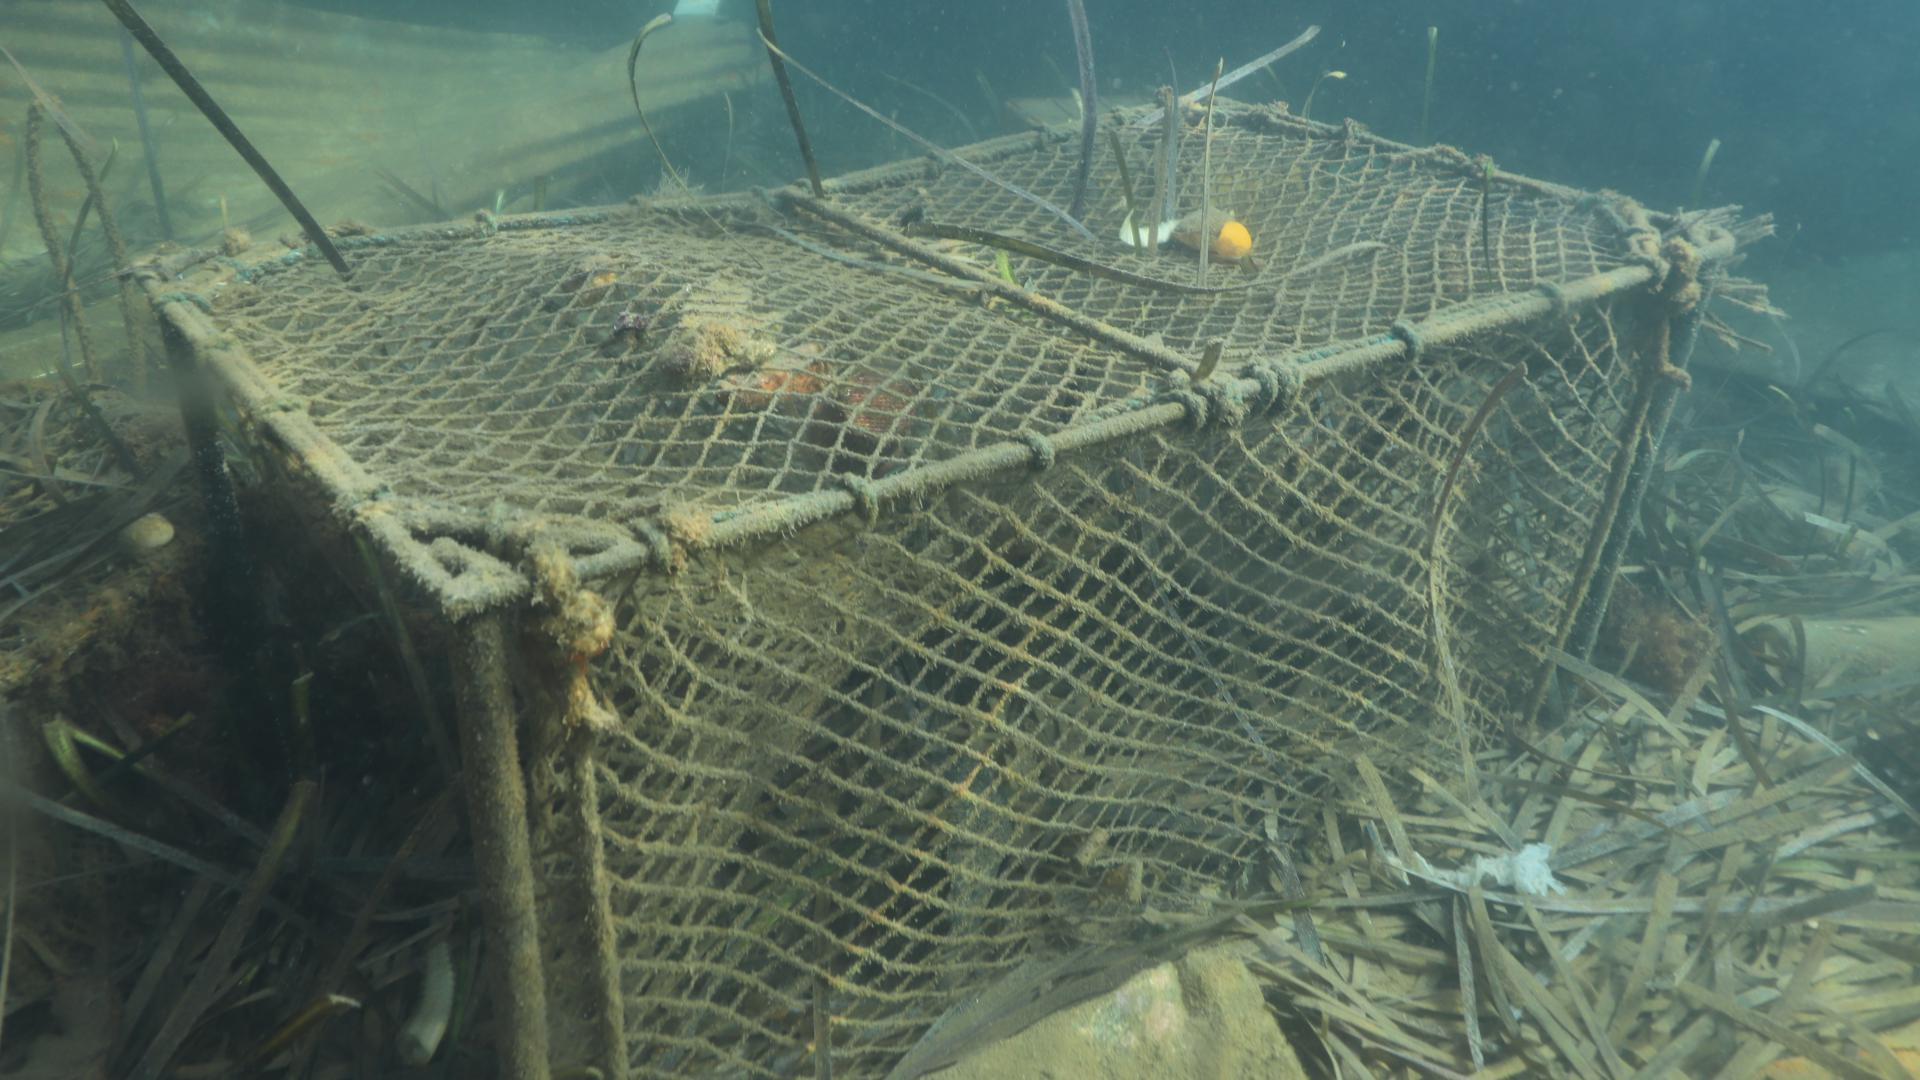rectangular fish trap: (129, 88, 1735, 1080)
